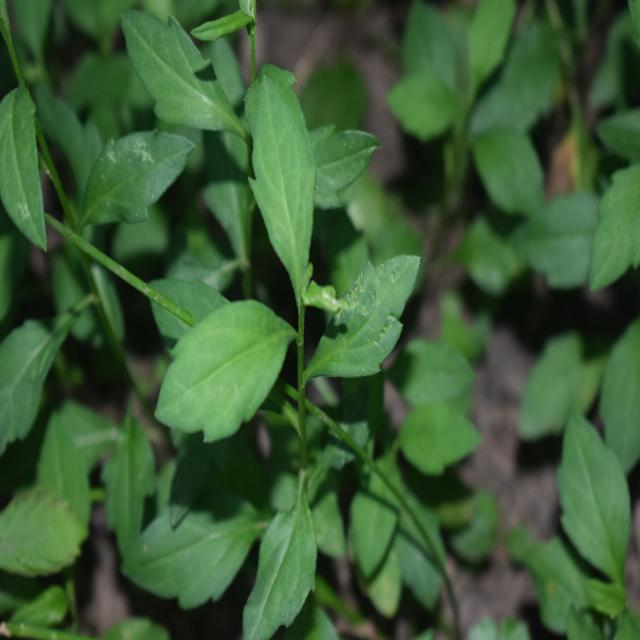Indian aster: (136, 81, 428, 515)
